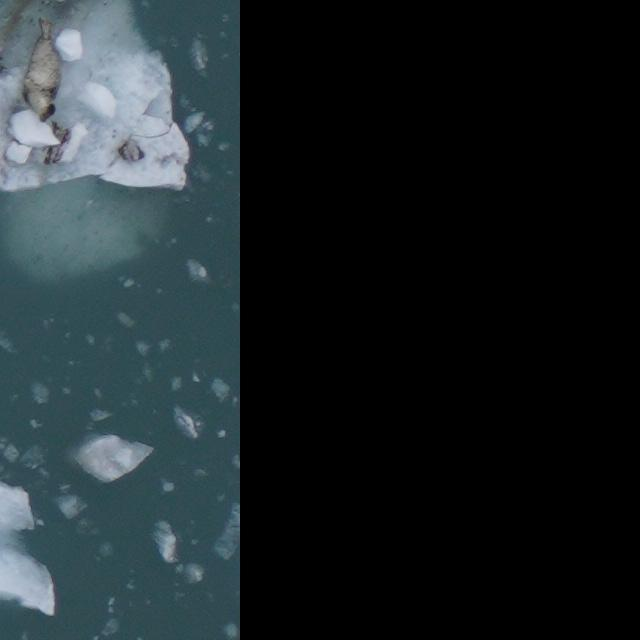seal: (20, 15, 65, 125)
